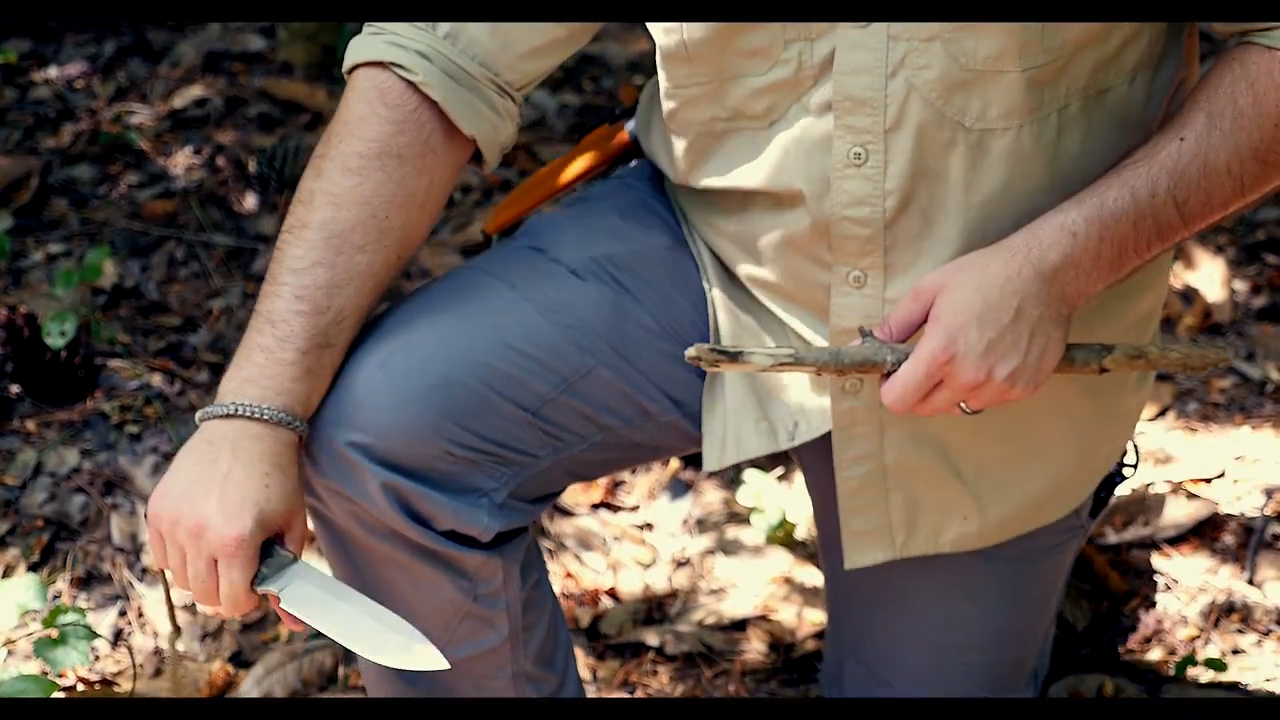knife: (142, 498, 463, 681)
